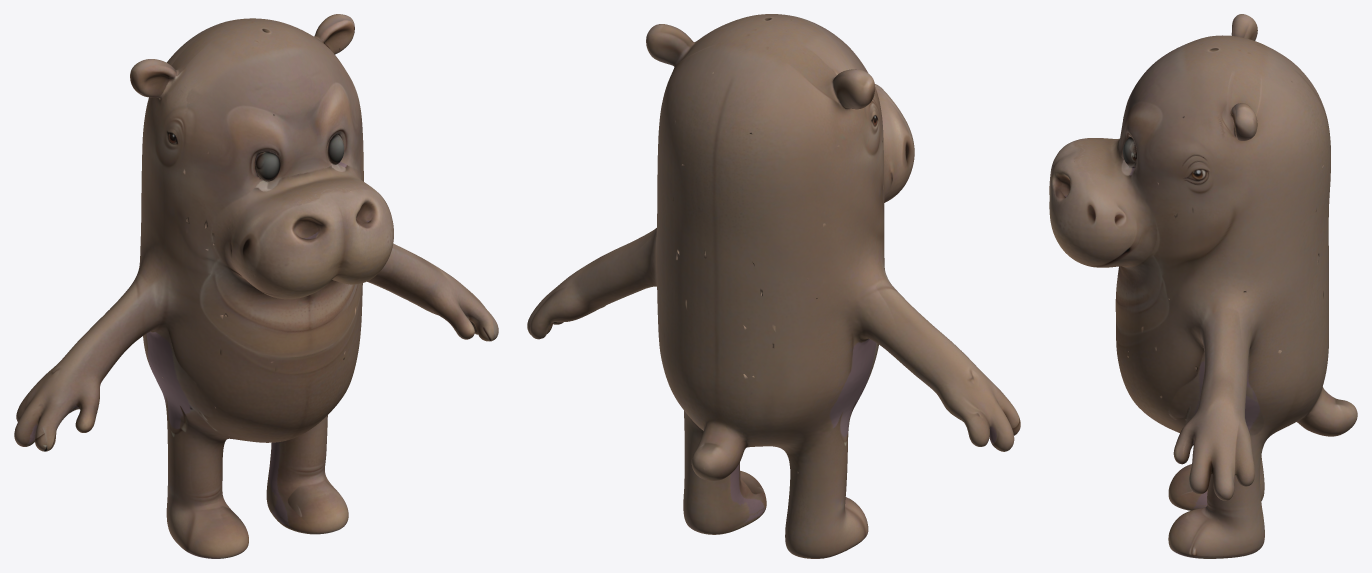
The model's file is HIPPO.fbx.
The picture shows the model from 3 angles, left to right: view 1: azimuth 30°, elevation 25°; view 2: azimuth 150°, elevation 25°; view 3: azimuth 270°, elevation 25°; orthographic projection. The views are drawn at different scales.
Visible parts, largest first — view 1: Mesh_0.018; view 2: Mesh_0.018; view 3: Mesh_0.018.
Boxes of the visible parts, x1=… form: Mesh_0.018: x1=14, y1=14, x2=498, y2=558; Mesh_0.018: x1=527, y1=14, x2=1020, y2=558; Mesh_0.018: x1=1049, y1=14, x2=1357, y2=558.
Size of the model in its own units: 199 by 200 by 117.
1 material, 1 textured.
